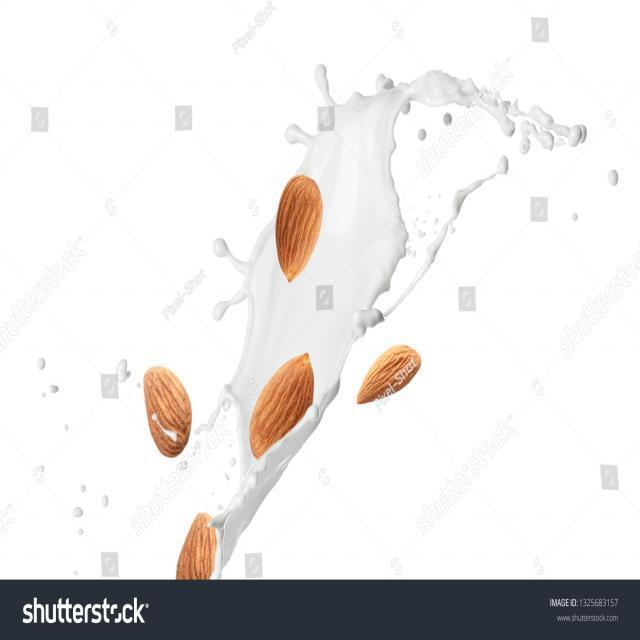almond: (246, 351, 318, 461), (274, 174, 324, 284), (142, 362, 192, 460), (355, 345, 421, 404), (174, 504, 219, 579)
